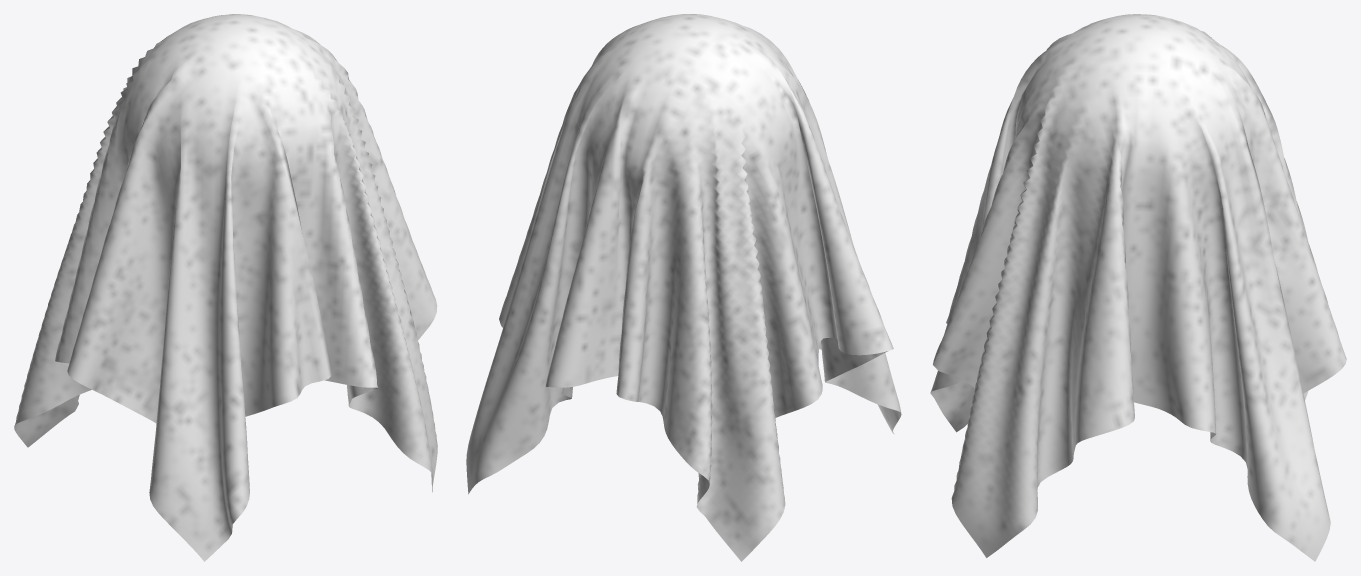
The model's file is ghostFabricFBX.fbx.
The picture shows the model from 3 angles, left to right: view 1: azimuth 30°, elevation 25°; view 2: azimuth 150°, elevation 25°; view 3: azimuth 270°, elevation 25°; orthographic projection. The views are drawn at different scales.
Parts seen in each view (by area): view 1: Plane; view 2: Plane; view 3: Plane.
Boxes of the visible parts, <box> form: Plane: <box>14,14,437,561</box>; Plane: <box>466,14,901,561</box>; Plane: <box>930,14,1346,561</box>.
Bounding box in the file's own units: 371 × 436 × 349.
